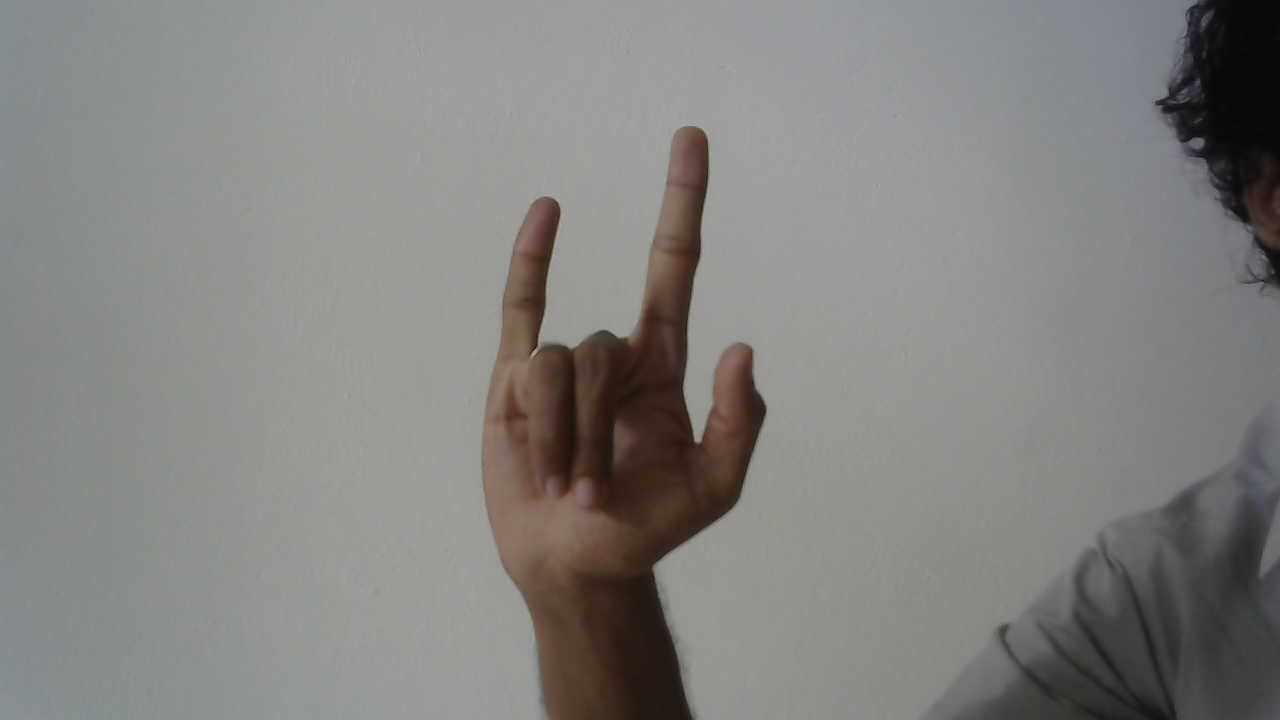iloveyou: (479, 118, 770, 570)
